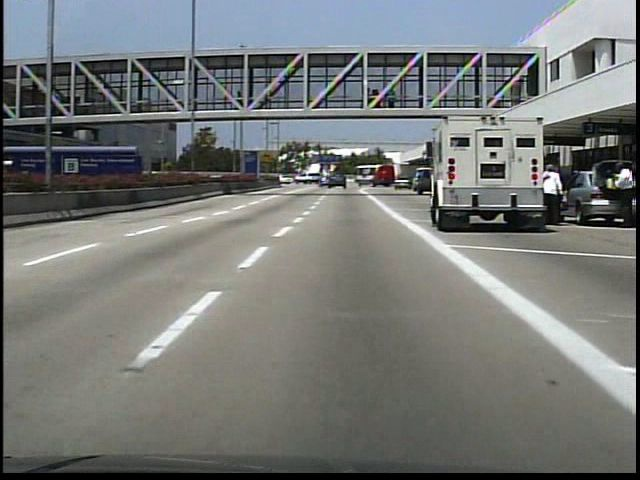person: (609, 162, 636, 229), (541, 158, 563, 228)
